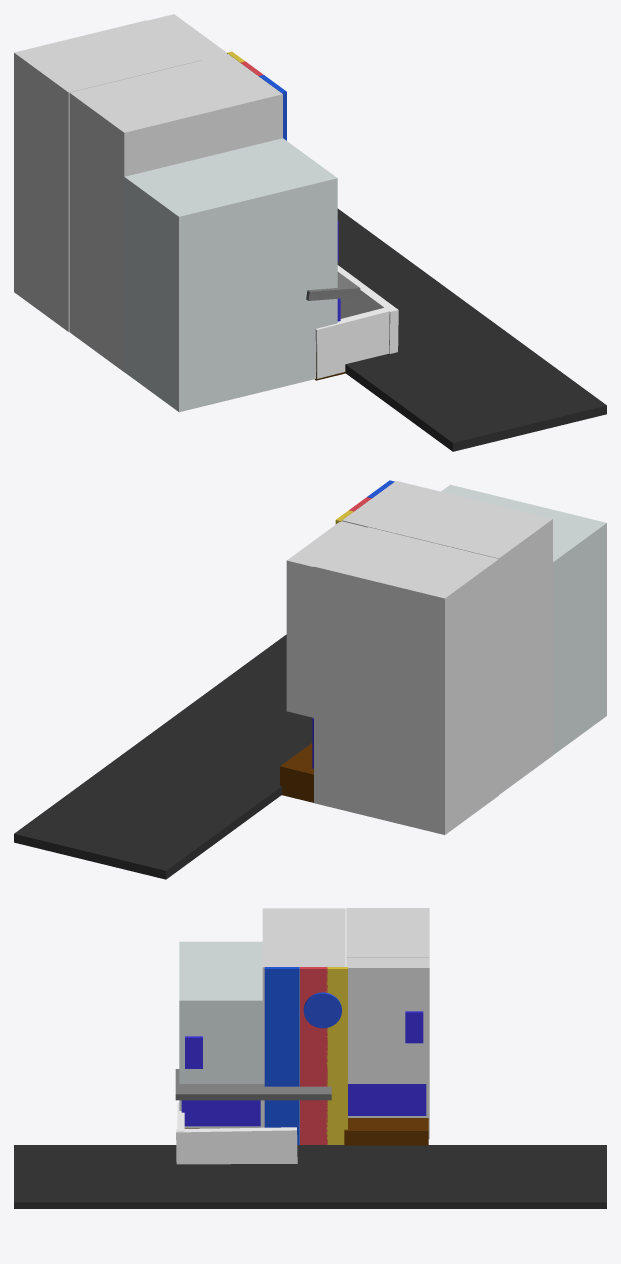
File: Gedung B Asia.glb
3 renders of one model, top to bottom at view 1: azimuth 30°, elevation 25°; view 2: azimuth 150°, elevation 25°; view 3: azimuth 270°, elevation 25°, orthographic. The views are drawn at different scales.
Parts seen in each view (by area): view 1: Cube.002, Cube, Cube.003, Cube.001, Cube.016, Cube.015, Cube.006, Cube.004; view 2: Cube.001, Cube.003, Cube, Cube.002, Cube.006, Cube.007; view 3: Cube.003, Cube.002, Cube.006, Cube, Cube.008, Cube.001, Cube.015, Cube.009, Cube.010, Cube.004, Cube.011, Cube.007 (+4 smaller).
Part boxes in pixels (left/top/right/bottom): Cube.002: left=124, top=138, right=337, bottom=412; Cube: left=69, top=54, right=282, bottom=371; Cube.003: left=337, top=208, right=606, bottom=451; Cube.001: left=14, top=20, right=200, bottom=331; Cube.016: left=315, top=306, right=394, bottom=378; Cube.015: left=337, top=265, right=398, bottom=353; Cube.006: left=147, top=14, right=227, bottom=60; Cube.004: left=306, top=272, right=360, bottom=300; Cube.001: left=314, top=527, right=498, bottom=834; Cube.003: left=14, top=634, right=312, bottom=879; Cube: left=342, top=481, right=552, bottom=794; Cube.002: left=441, top=484, right=606, bottom=754; Cube.006: left=286, top=521, right=366, bottom=717; Cube.007: left=280, top=743, right=313, bottom=802; Cube.003: left=14, top=1145, right=606, bottom=1208; Cube.002: left=179, top=941, right=262, bottom=1128; Cube.006: left=346, top=957, right=429, bottom=1083; Cube: left=262, top=908, right=345, bottom=1144; Cube.008: left=264, top=967, right=299, bottom=1144; Cube.001: left=346, top=908, right=429, bottom=1139; Cube.015: left=176, top=1127, right=297, bottom=1164; Cube.009: left=300, top=967, right=327, bottom=1144; Cube.010: left=326, top=967, right=347, bottom=1144; Cube.004: left=175, top=1069, right=331, bottom=1100; Cube.011: left=348, top=1084, right=426, bottom=1115; Cube.007: left=344, top=1118, right=428, bottom=1145.
Bounding box in the file's own units: 9.22 × 4.86 × 14.26.
